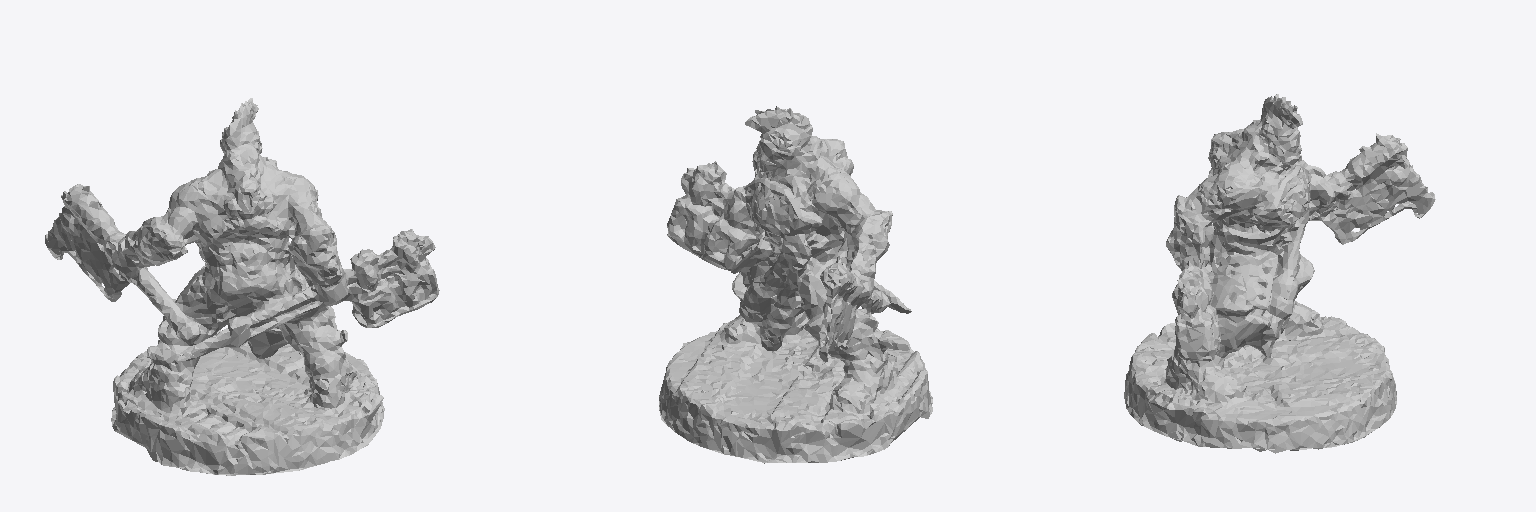
File: Goliaths_4.obj
3 renders of one model, left to right at view 1: azimuth 30°, elevation 25°; view 2: azimuth 150°, elevation 25°; view 3: azimuth 270°, elevation 25°, orthographic.
Visible parts, largest first — view 1: Goliaths_4_zephyr; view 2: Goliaths_4_zephyr; view 3: Goliaths_4_zephyr.
Boxes of the visible parts, box(x1,y1,x2,y2) form: Goliaths_4_zephyr: box(45, 98, 439, 475); Goliaths_4_zephyr: box(659, 106, 932, 463); Goliaths_4_zephyr: box(1124, 94, 1435, 453).
Bounding box in the file's own units: 1.44 × 1.54 × 1.42.